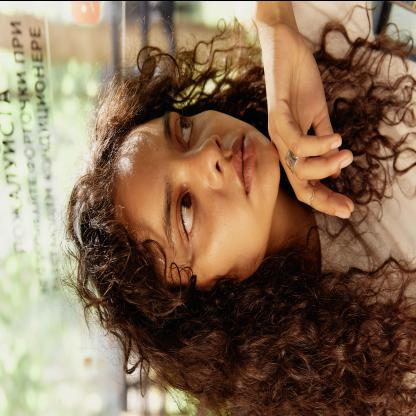Eye: (176, 188, 197, 242), (174, 113, 194, 148)
Mouth: (230, 133, 254, 195)
Nose: (184, 134, 224, 188)
